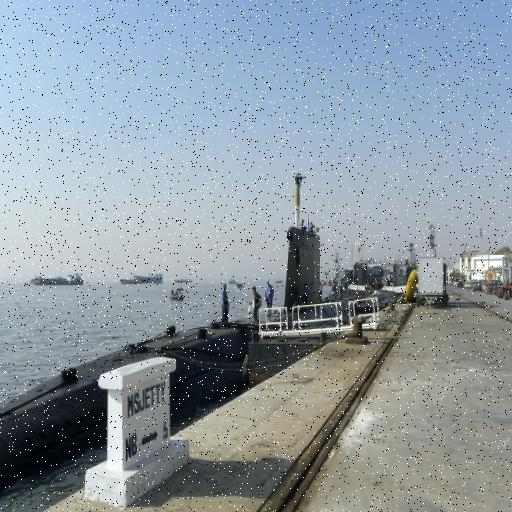submarine: (1, 228, 434, 504)
